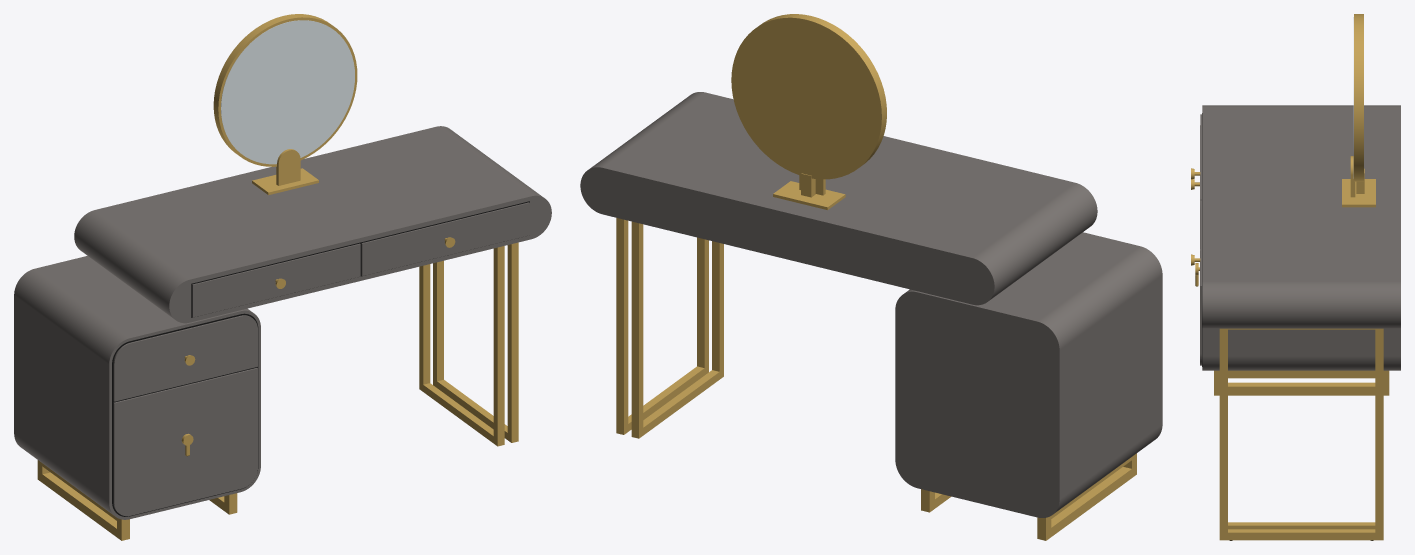
File: ownHemingway.glb
3 views of the same model, side by side, from view 1: azimuth 30°, elevation 25°; view 2: azimuth 150°, elevation 25°; view 3: azimuth 270°, elevation 25° (orthographic). The views are drawn at different scales.
Size of the model in its own units: 1.4 by 1.26 by 0.5505.
